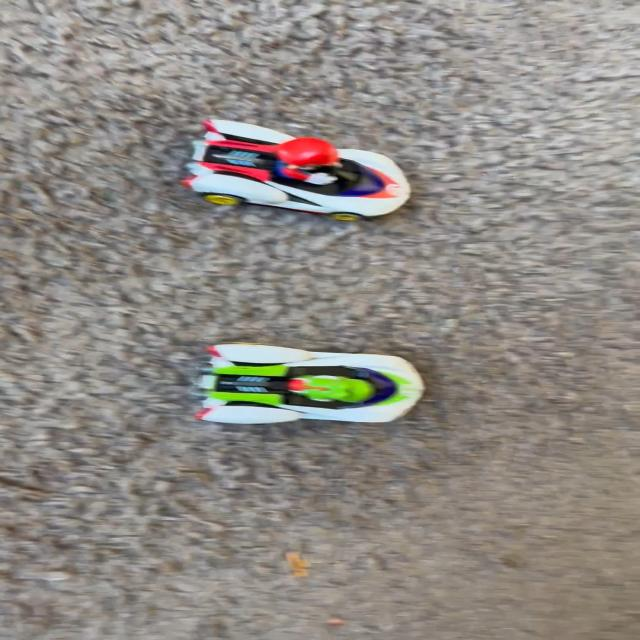mario: (172, 124, 424, 230)
yoshi: (184, 352, 438, 436)
